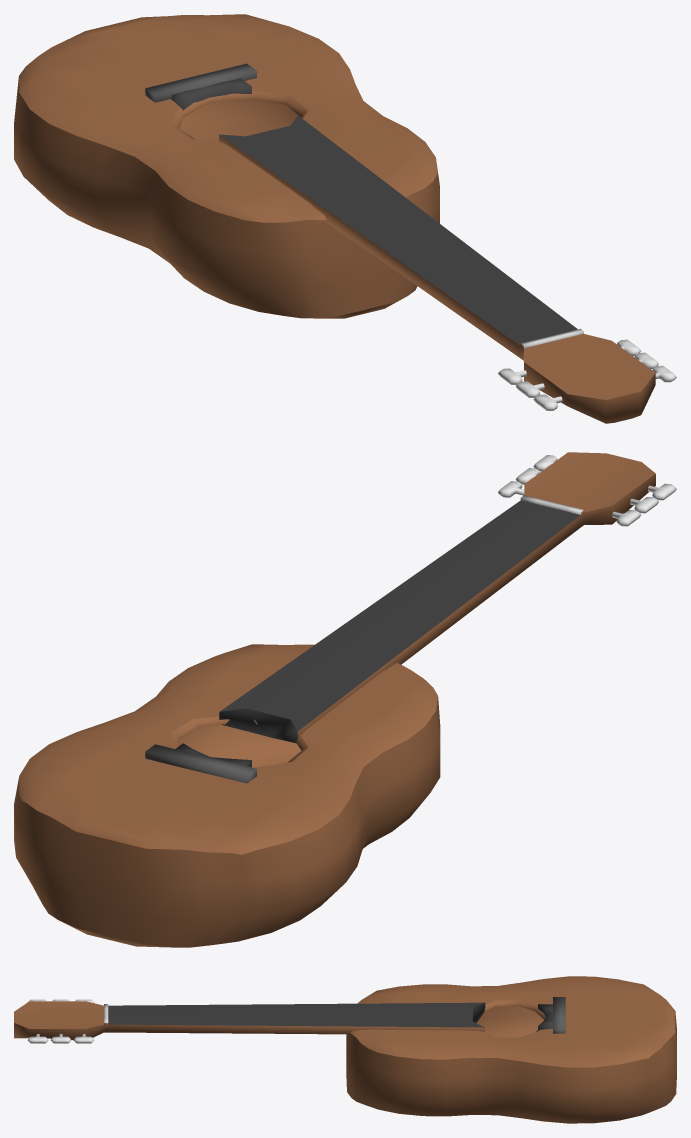
The model's file is props_guitar.fbx.
3 views of the same model, one above another, from view 1: azimuth 30°, elevation 25°; view 2: azimuth 150°, elevation 25°; view 3: azimuth 270°, elevation 25° (orthographic). The views are drawn at different scales.
Parts seen in each view (by area): view 1: Cube.001; view 2: Cube.001; view 3: Cube.001.
Boxes of the visible parts, <box> form: Cube.001: <box>14,14,676,423</box>; Cube.001: <box>14,452,676,947</box>; Cube.001: <box>14,976,676,1123</box>.
Size of the model in its own units: 0.5079 by 1.49 by 0.1837.
